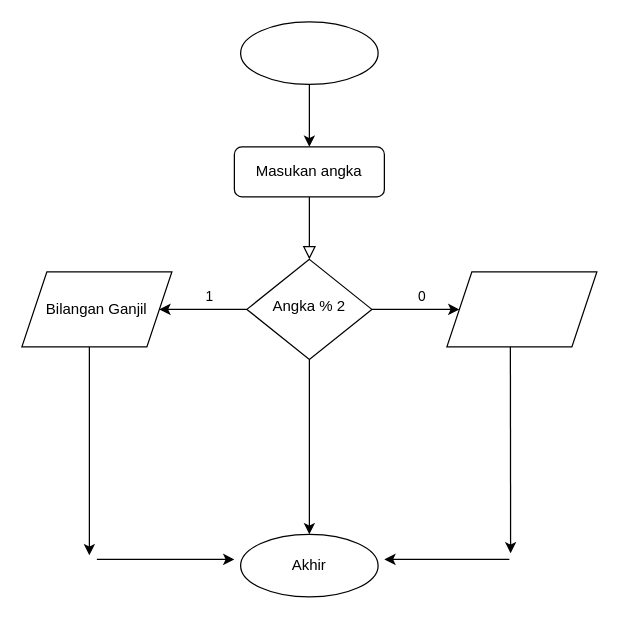
This 619x629 diagram has some shape labels left out. The shapes that lost their labels are listed below. From the top down, each one's box as (x1, y1, x2, y2) in pixels, then its label:
(239, 21, 378, 84): Mulai
(446, 271, 597, 347): Bilangan Genap
